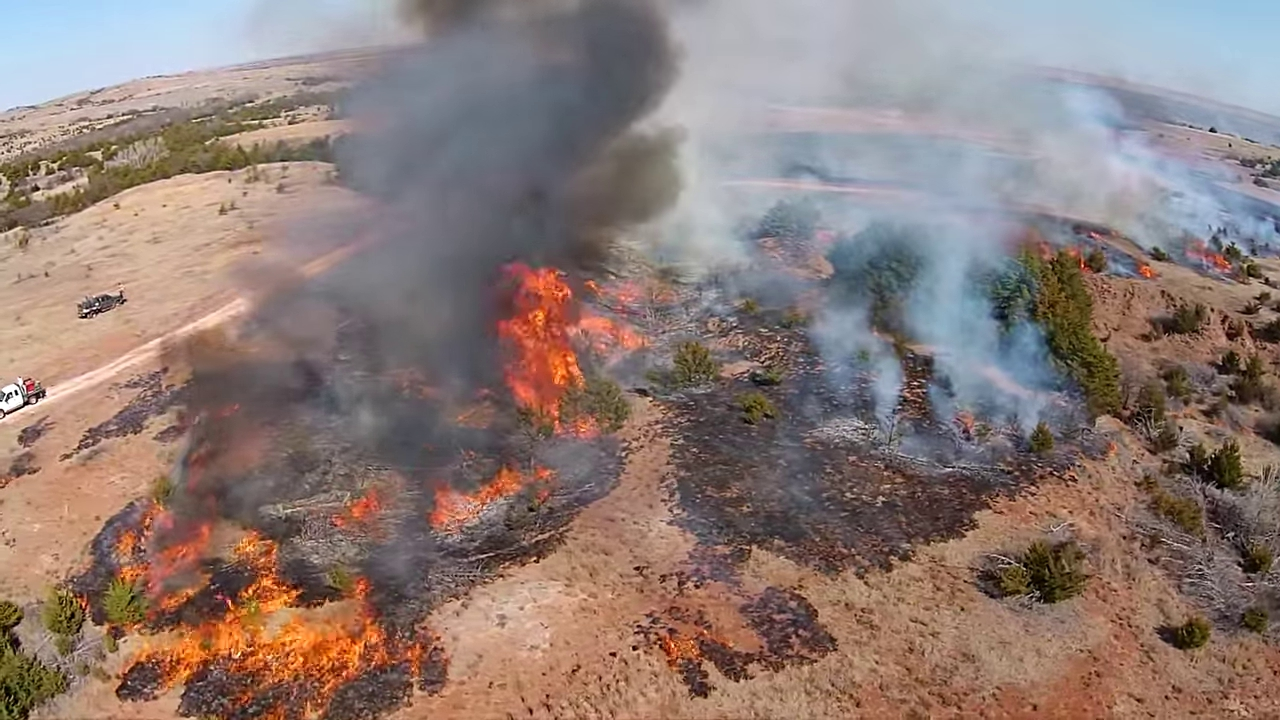forest_fire: (136, 532, 426, 719), (497, 263, 640, 436), (427, 464, 555, 534), (147, 524, 211, 590), (1187, 240, 1229, 270), (1137, 263, 1155, 277)
